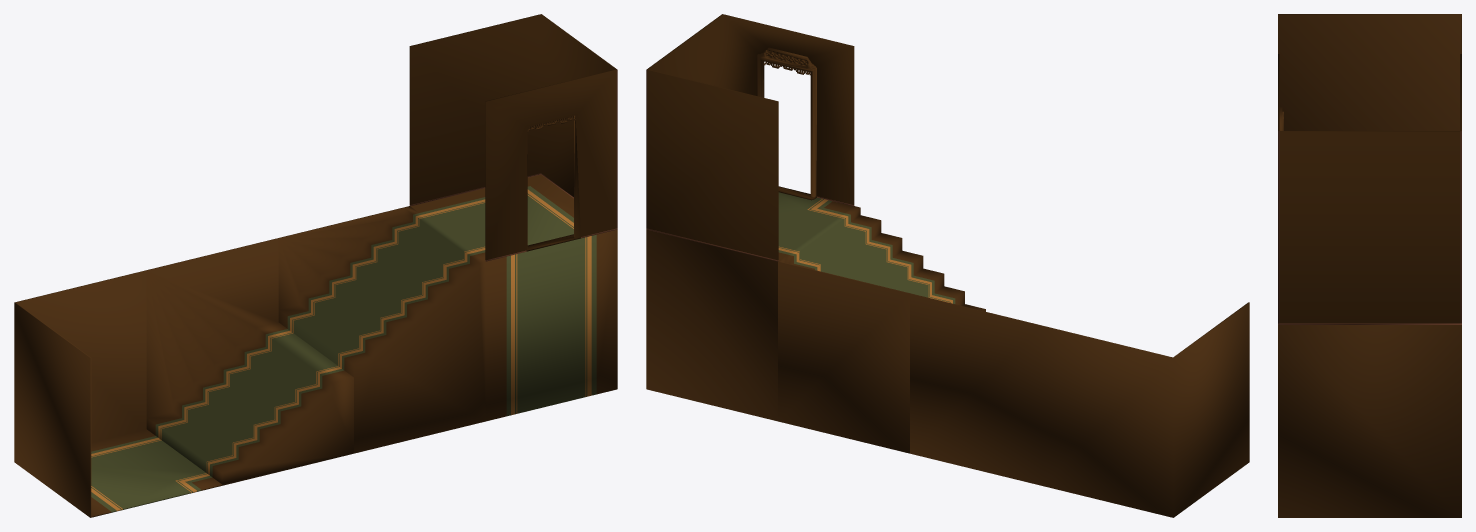
The model's file is Stairs.fbx.
3 renders of one model, left to right at view 1: azimuth 30°, elevation 25°; view 2: azimuth 150°, elevation 25°; view 3: azimuth 270°, elevation 25°, orthographic. The views are drawn at different scales.
Parts seen in each view (by area): view 1: f1; view 2: f1; view 3: f1.
Boxes of the visible parts, x1=… form: f1: x1=14, y1=14, x2=617, y2=517; f1: x1=646, y1=14, x2=1249, y2=517; f1: x1=1278, y1=14, x2=1461, y2=517.
Bounding box in the file's own units: 756 × 438 × 189.
